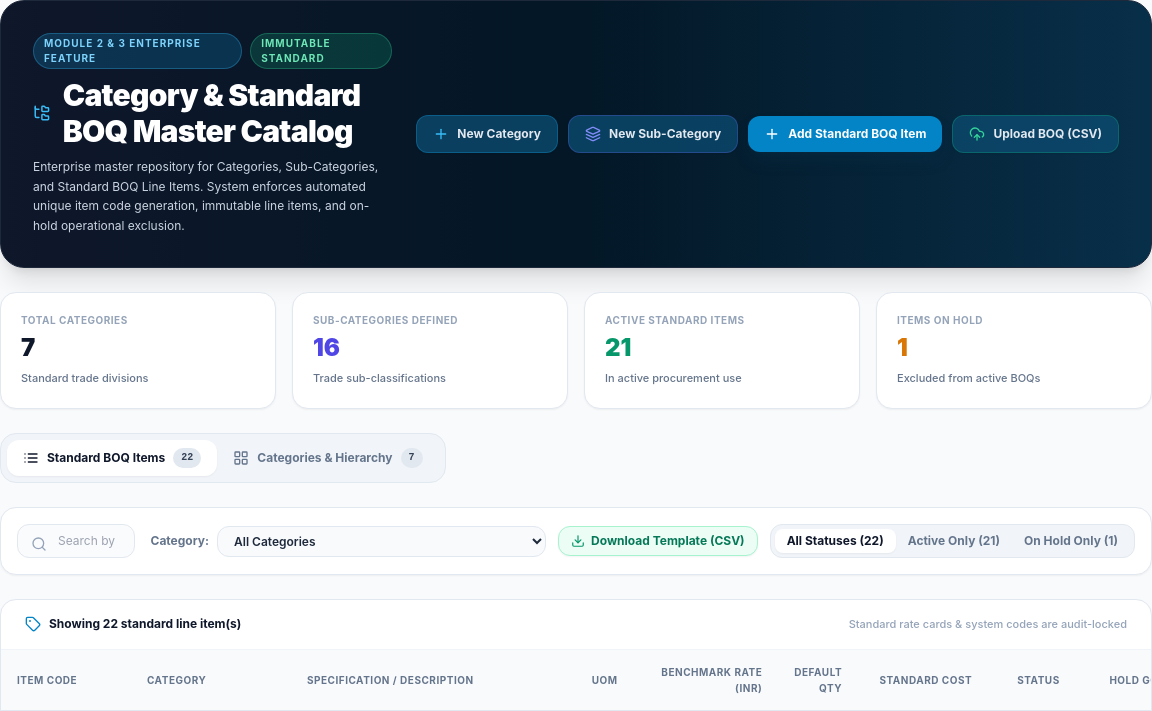
Test case: CategoryStandardBOQMaster & Master Catalog Governance › adds a new Standard BOQ Item with system-generated unique code through AddStandardBOQItemModal
Step 1. Click the button "Add Standard BOQ Item" → (845, 134), box x1=748 y1=116 x2=942 y2=152
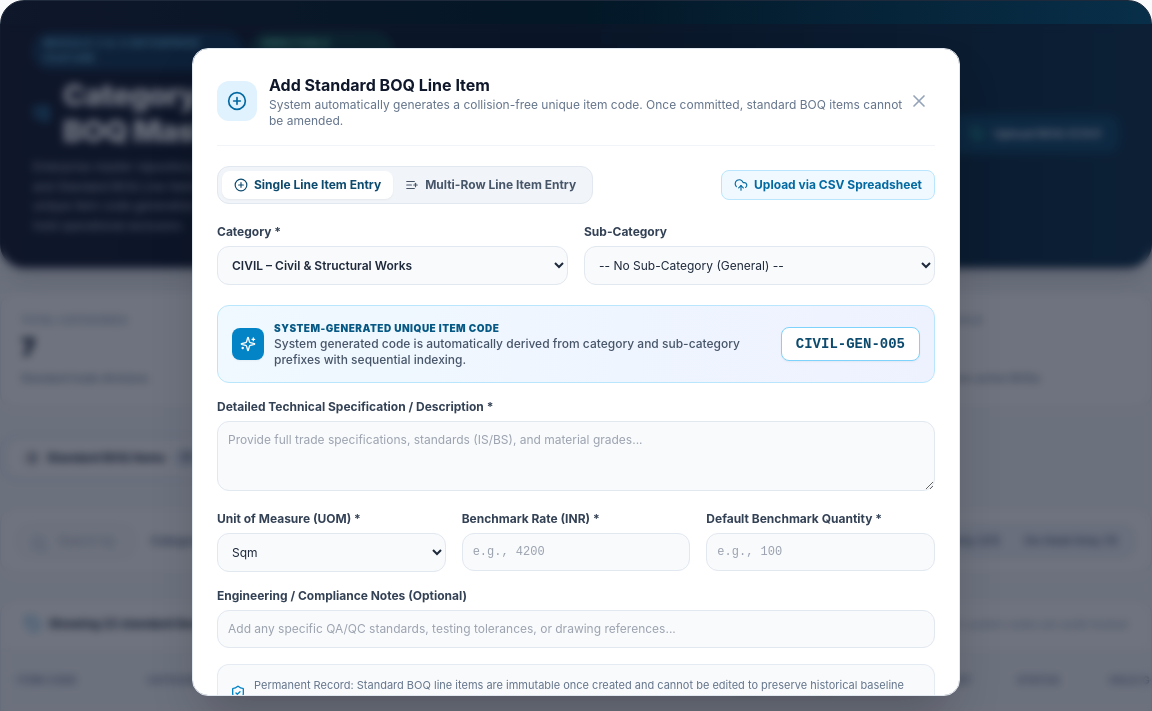
Expected: the heading "Add Standard BOQ Line Item" is shown, x1=269 y1=75 x2=490 y2=95
Expected: the text "System-Generated Unique Item Code" is shown, x1=274 y1=322 x2=499 y2=334
Step 2. Replace the text in the text box with placeholder "Provide full trade specifications, standards (IS/BS), and material grades..." with "500kVA Solar Grid Inverter Unit with SCADA Monitoring" → (576, 456), box x1=217 y1=421 x2=935 y2=491
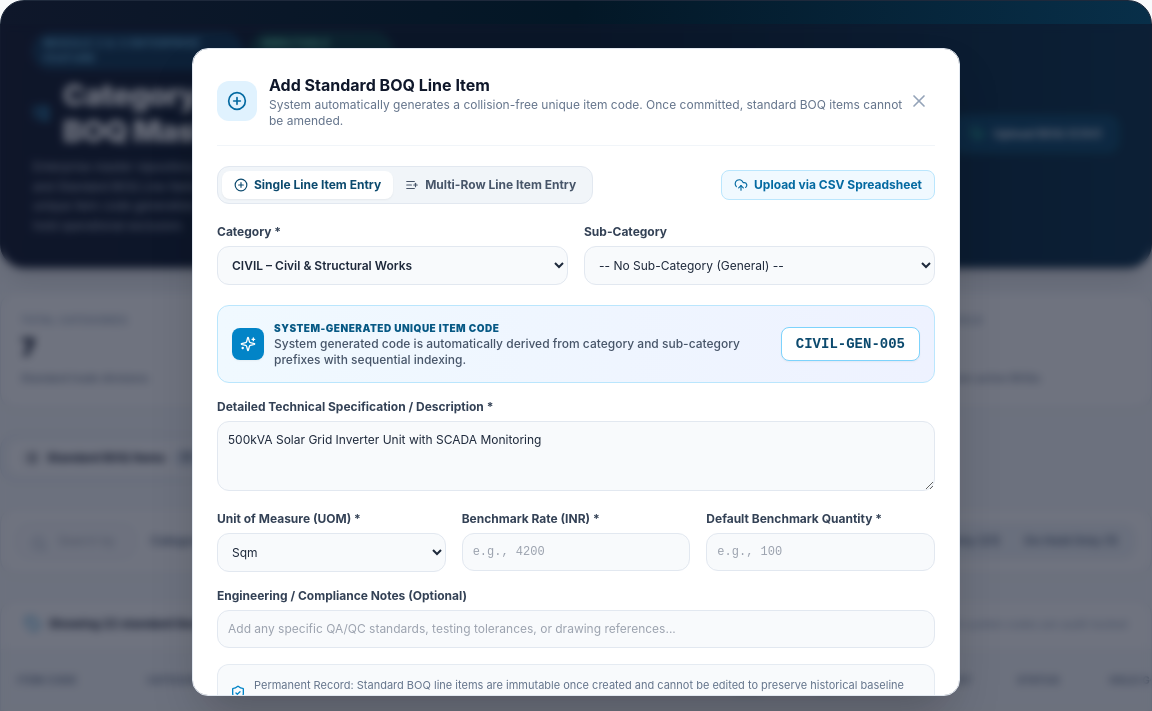
Step 3. Type "1850000" into the number field with placeholder "e.g., 4200" → (576, 552), box x1=462 y1=533 x2=690 y2=571
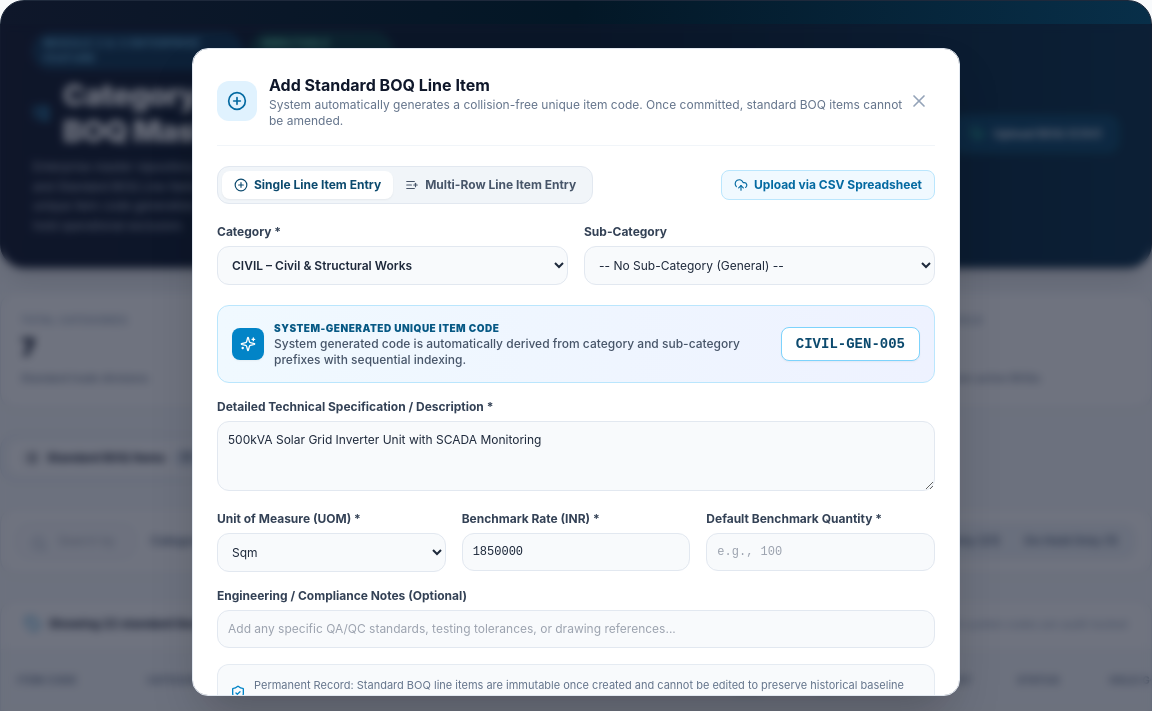
Step 4. Type "2" into the number field with placeholder "e.g., 100" → (821, 552), box x1=706 y1=533 x2=935 y2=571
(page scrolled)
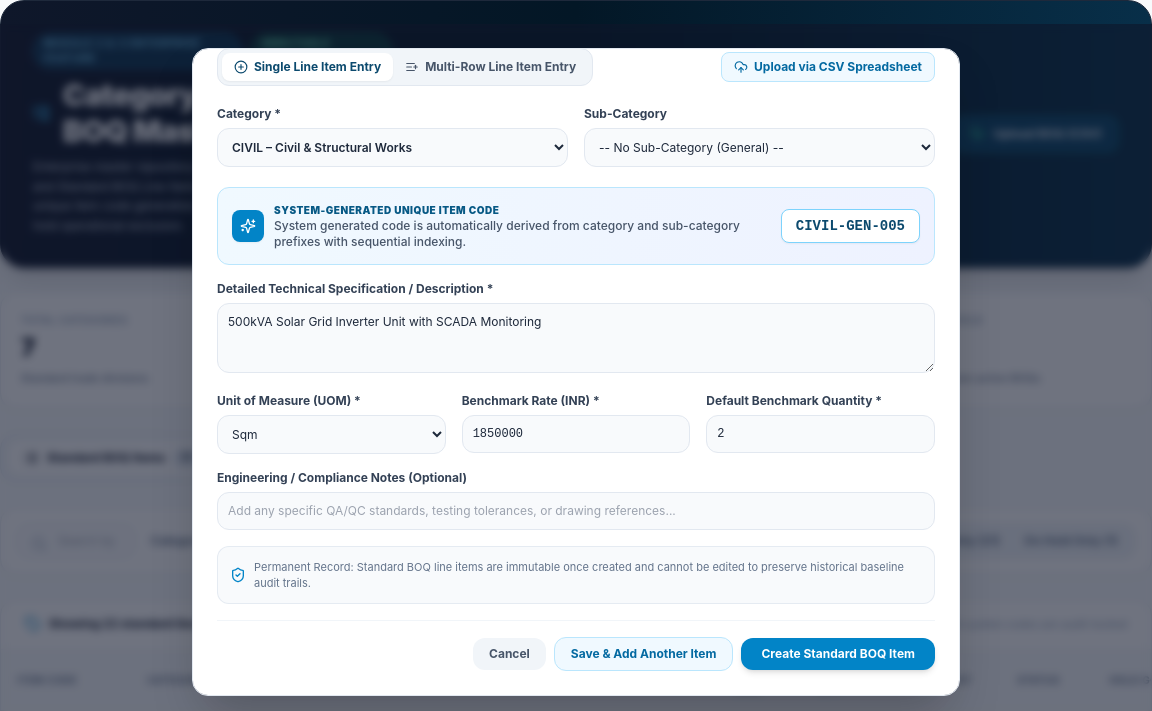
Step 5. Click the button "Create Standard BOQ Item" → (838, 654), box x1=742 y1=638 x2=935 y2=670
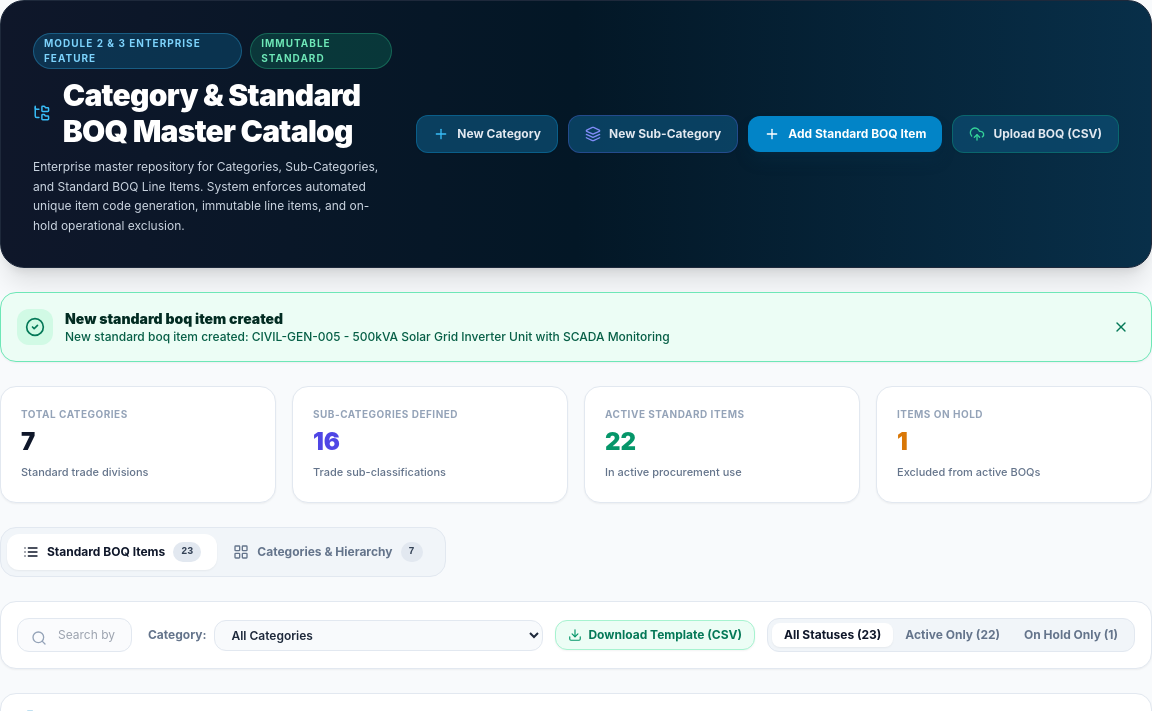
Expected: the heading "Add Standard BOQ Line Item" is not shown
Expected: the text "500kVA Solar Grid Inverter Unit" is shown, x1=65 y1=329 x2=670 y2=344
